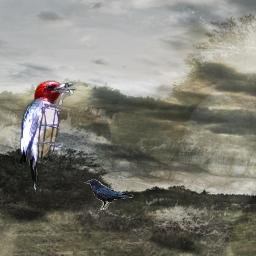Crow: (84, 179, 134, 210)
Woodpecker: (19, 80, 78, 195)
